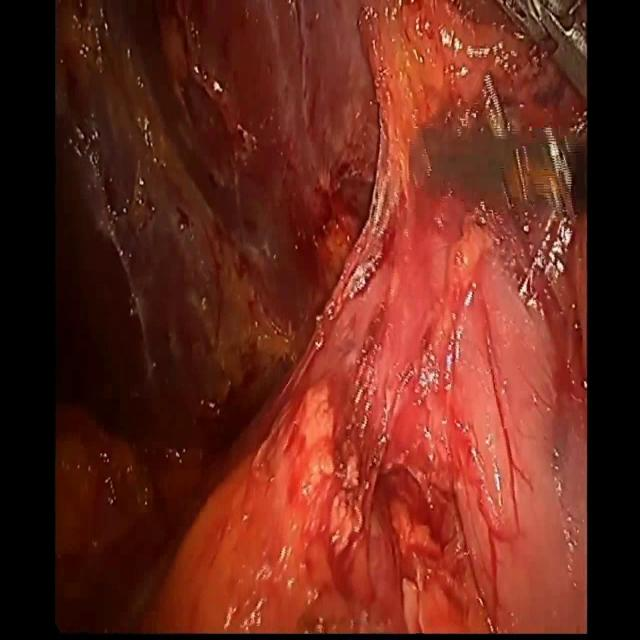surgical-area: (54, 0, 588, 635)
surgical-tool: (496, 0, 588, 104)
